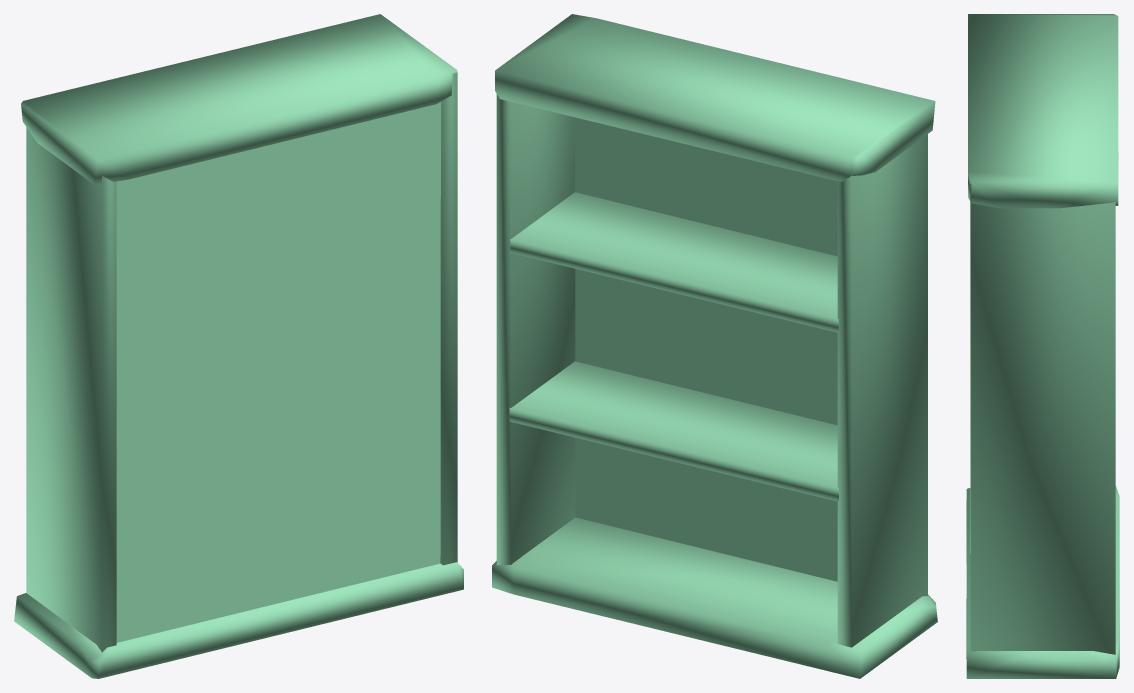
File: shelf2.fbx
3 renders of one model, left to right at view 1: azimuth 30°, elevation 25°; view 2: azimuth 150°, elevation 25°; view 3: azimuth 270°, elevation 25°, orthographic. The views are drawn at different scales.
Parts seen in each view (by area): view 1: shelf2; view 2: shelf2; view 3: shelf2.
Part boxes in pixels (x1,y1,x2,y2): shelf2: [14, 14, 463, 678]; shelf2: [492, 14, 937, 678]; shelf2: [966, 14, 1119, 678].
Size of the model in its own units: 84.25 by 113 by 31.68.
